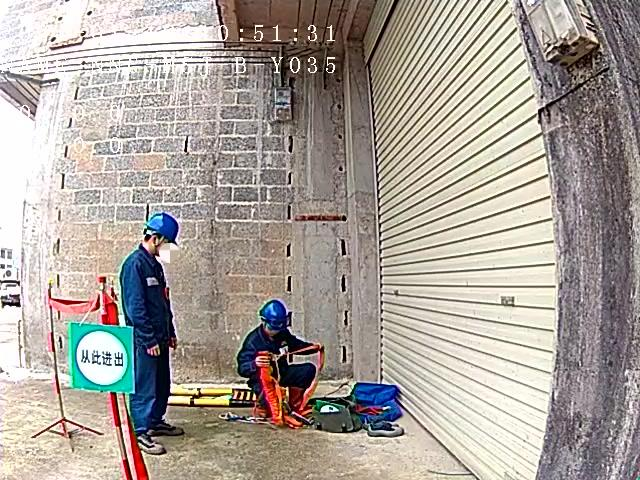halt: (145, 214, 183, 256), (262, 302, 294, 335)
inear: (150, 235, 167, 255)
